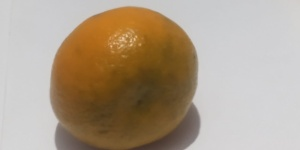BAD: (48, 6, 201, 150)
